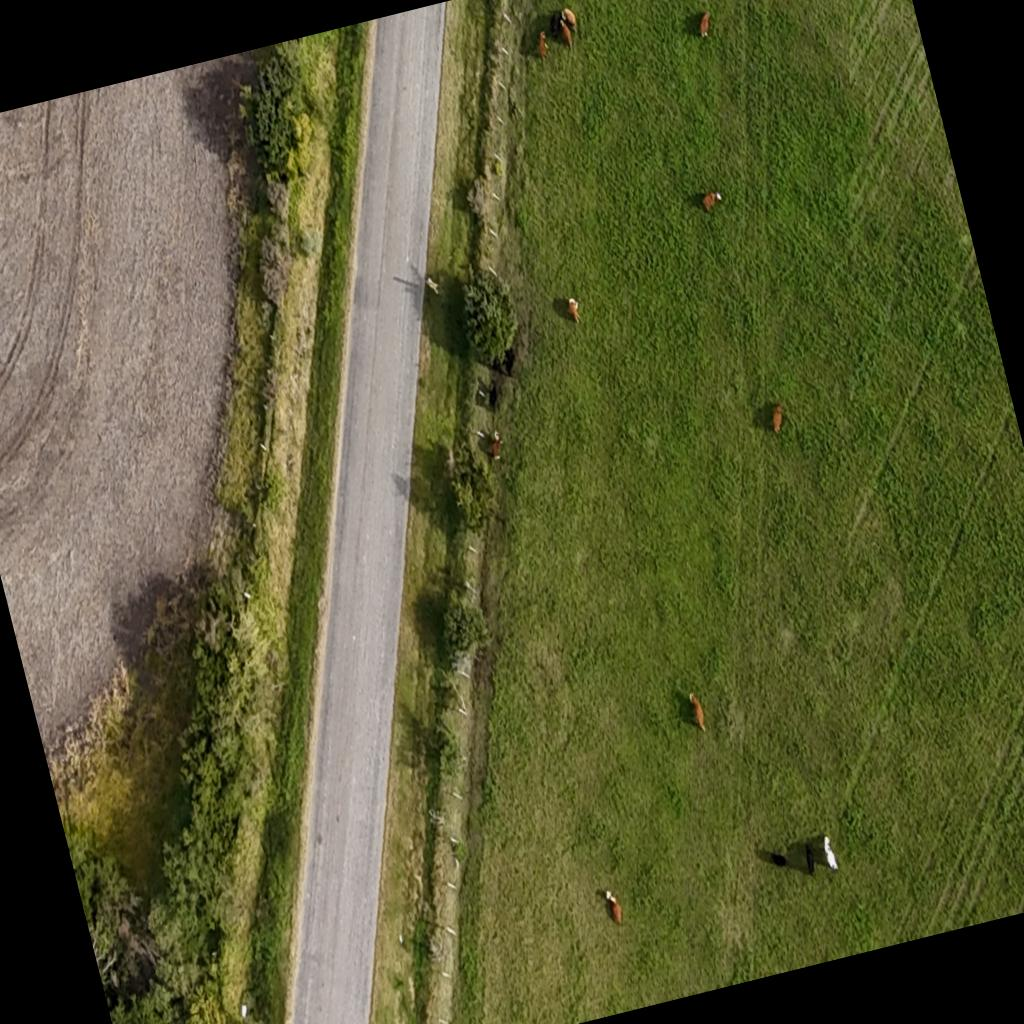cow: (686, 686, 712, 736), (494, 344, 526, 381), (600, 886, 624, 926), (563, 290, 587, 328), (482, 426, 506, 462), (558, 1, 582, 35), (546, 8, 570, 38), (820, 834, 838, 872), (482, 380, 502, 412), (768, 402, 788, 434), (700, 188, 724, 214), (534, 31, 551, 63), (801, 842, 817, 874), (696, 9, 714, 37), (558, 19, 574, 50), (768, 846, 788, 870)
